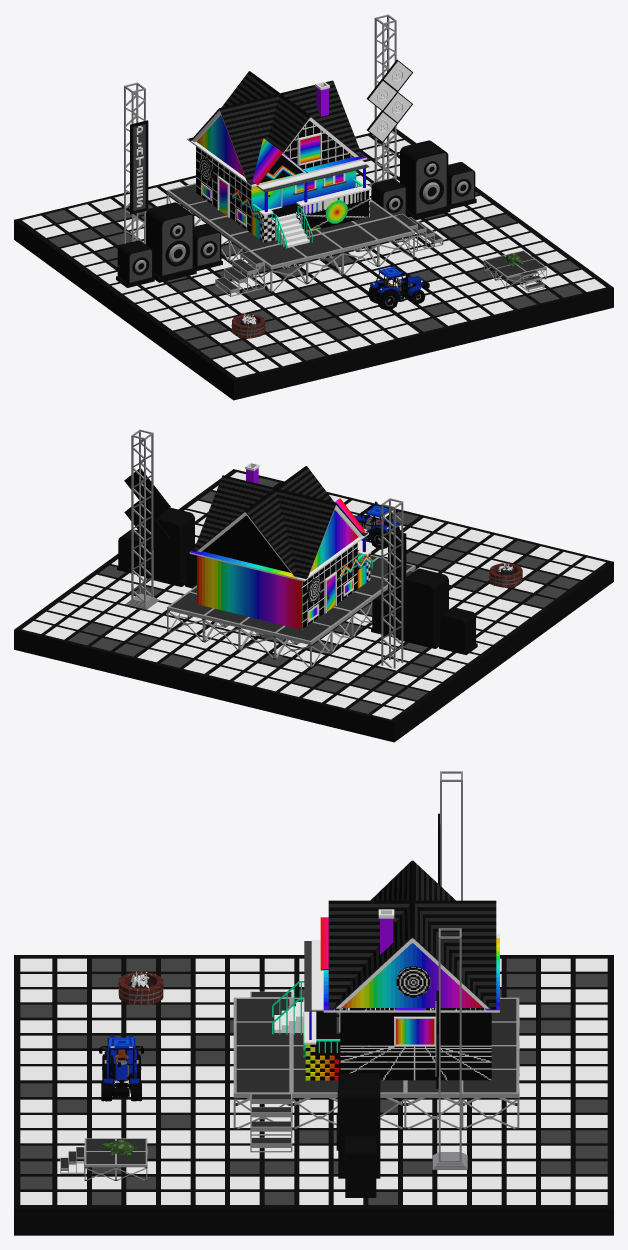
The picture shows the model from 3 angles, top to bottom: view 1: azimuth 30°, elevation 25°; view 2: azimuth 150°, elevation 25°; view 3: azimuth 270°, elevation 25°; orthographic projection. The views are drawn at different scales.
Parts seen in each view (by area): view 1: Cube.008, Cube.1320, VEHICLES_TRACTOR, OBJRANDOM_CAMPFIRE; view 2: Cube.008, Cube.1320, VEHICLES_TRACTOR, OBJRANDOM_CAMPFIRE; view 3: Cube.008, Cube.1320, VEHICLES_TRACTOR, OBJRANDOM_CAMPFIRE.
Boxes of the visible parts, x1=… form: Cube.008: x1=14, y1=14, x2=613, y2=400; Cube.1320: x1=187, y1=71, x2=371, y2=248; VEHICLES_TRACTOR: x1=368, y1=262, x2=429, y2=310; OBJRANDOM_CAMPFIRE: x1=231, y1=312, x2=265, y2=338; Cube.008: x1=14, y1=429, x2=613, y2=742; Cube.1320: x1=189, y1=462, x2=372, y2=629; VEHICLES_TRACTOR: x1=353, y1=501, x2=400, y2=549; OBJRANDOM_CAMPFIRE: x1=489, y1=562, x2=522, y2=587; Cube.008: x1=14, y1=771, x2=613, y2=1235; Cube.1320: x1=272, y1=860, x2=499, y2=1080; VEHICLES_TRACTOR: x1=99, y1=1036, x2=143, y2=1101; OBJRANDOM_CAMPFIRE: x1=118, y1=968, x2=163, y2=1004.
Size of the model in its own units: 4000 by 1980 by 4000.
Materials: 36 (3 with a texture image).
